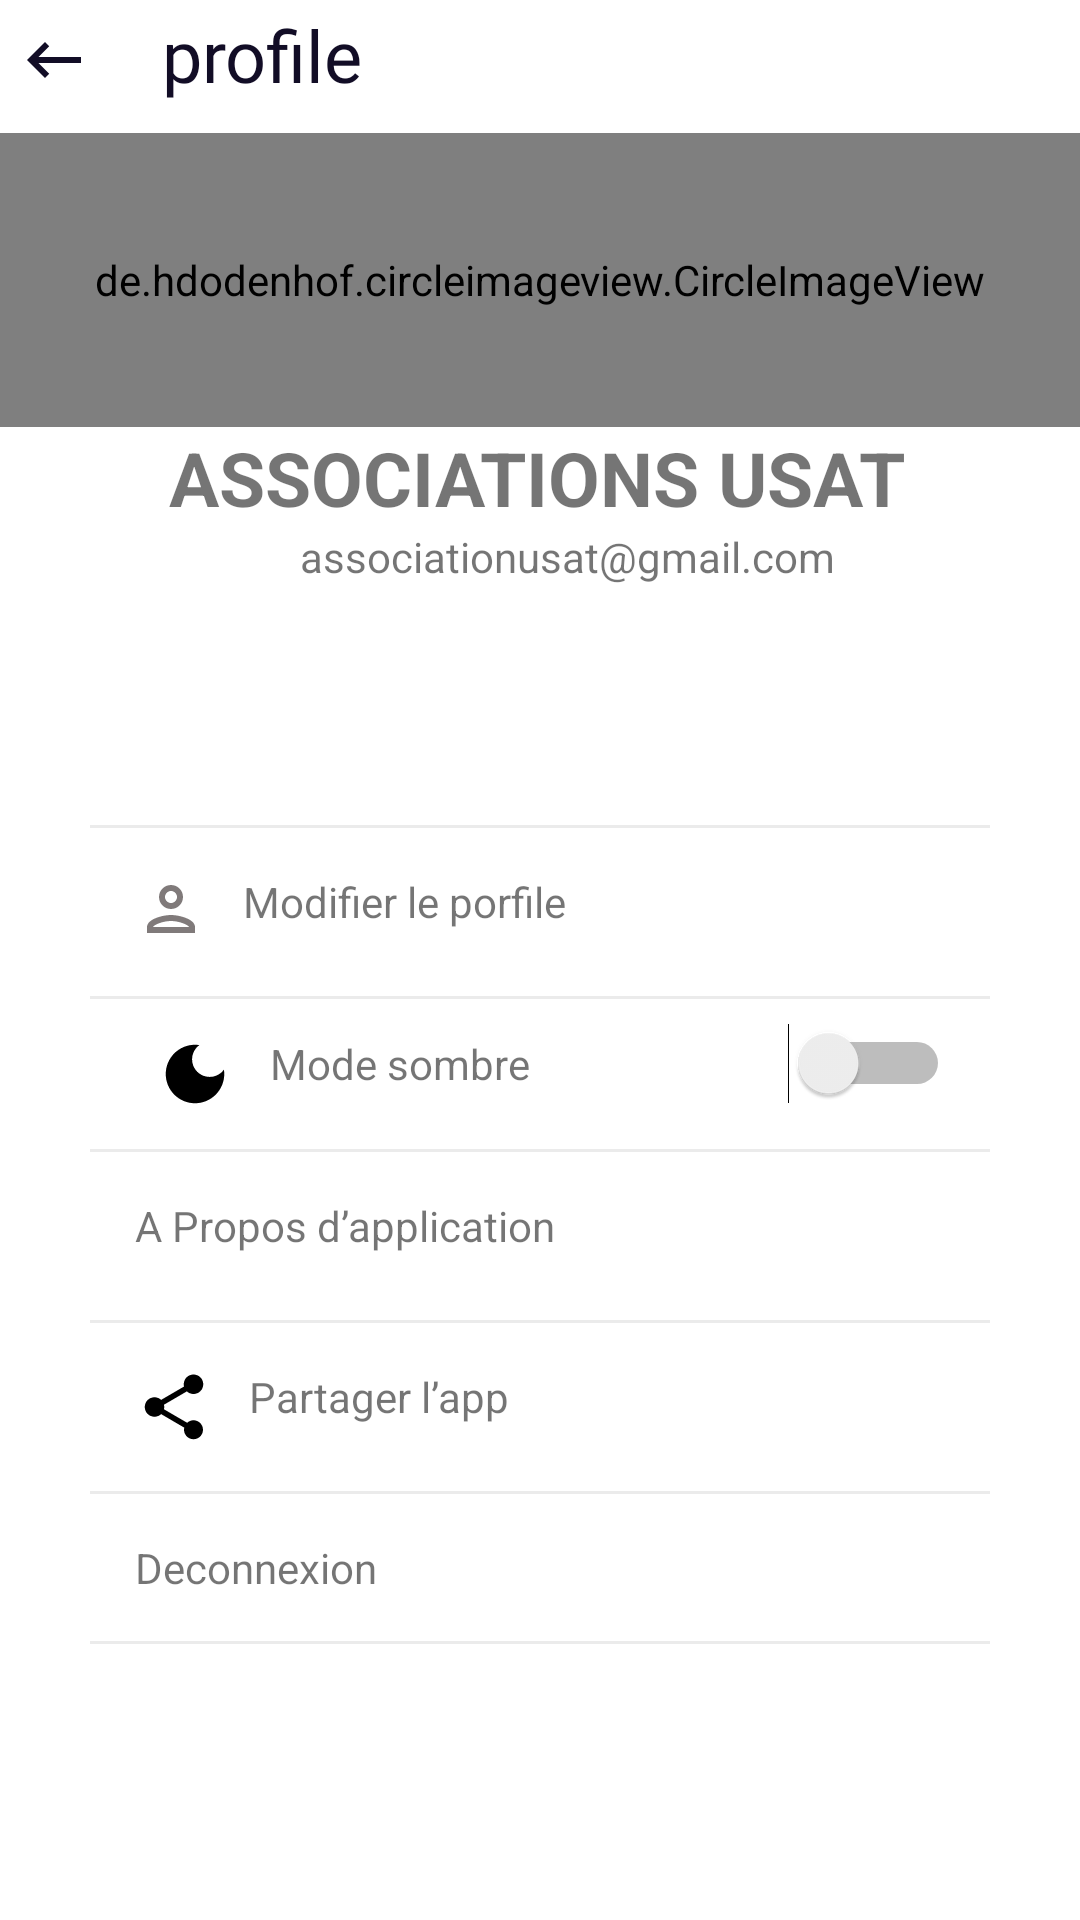

Screen size 1080 x 1920. Icon name, then its center in pixels as (x,y):
back: (54,60)
